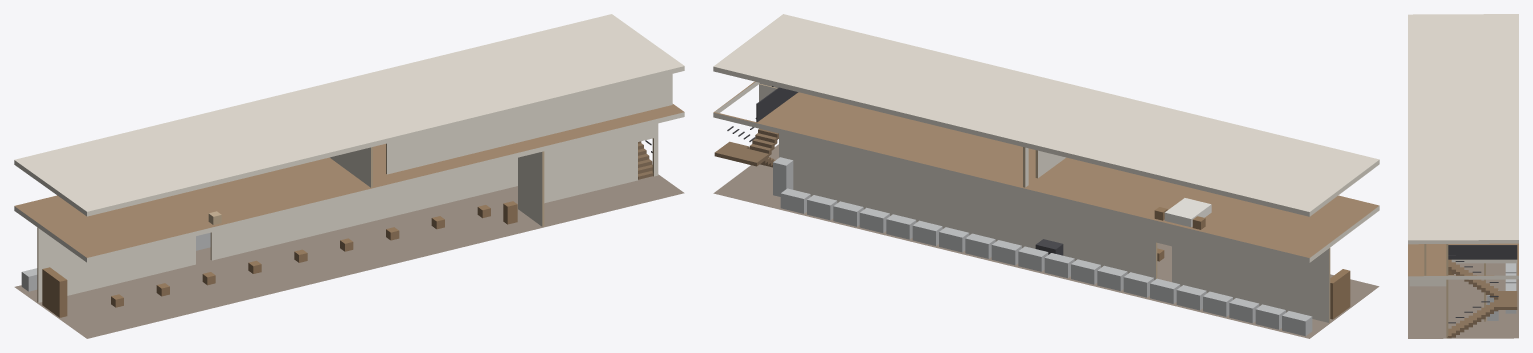
File: interior.glb
3 renders of one model, left to right at view 1: azimuth 30°, elevation 25°; view 2: azimuth 150°, elevation 25°; view 3: azimuth 270°, elevation 25°, orthographic. The views are drawn at different scales.
Parts seen in each view (by area): view 1: slabs, partitions, coarse-s0; view 2: slabs, partitions, coarse-s0, stair, coarse-s1; view 3: slabs, stair, partitions, coarse-s0.
Part boxes in pixels (x1=…): slabs: x1=14, y1=14, x2=684, y2=338; partitions: x1=37, y1=74, x2=672, y2=302; coarse-s0: x1=21, y1=201, x2=517, y2=317; slabs: x1=713, y1=14, x2=1379, y2=338; partitions: x1=759, y1=84, x2=1330, y2=322; coarse-s0: x1=773, y1=157, x2=1350, y2=336; stair: x1=714, y1=86, x2=798, y2=167; coarse-s1: x1=1154, y1=198, x2=1211, y2=229; slabs: x1=1408, y1=14, x2=1518, y2=338; stair: x1=1447, y1=245, x2=1517, y2=338; partitions: x1=1409, y1=244, x2=1485, y2=338; coarse-s0: x1=1448, y1=263, x2=1516, y2=320.
Bounding box in the file's own units: 33.98 × 6.91 × 7.03.
